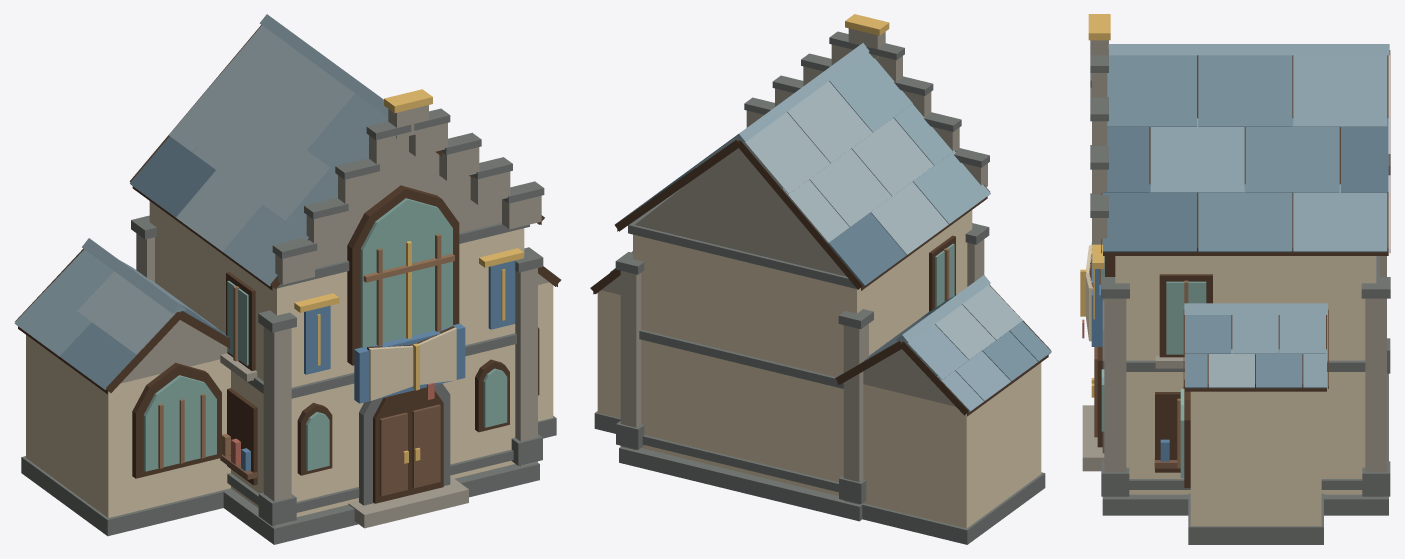
The model's file is ENV_Civic_archive_LOD1.glb.
3 renders of one model, left to right at view 1: azimuth 30°, elevation 25°; view 2: azimuth 150°, elevation 25°; view 3: azimuth 270°, elevation 25°, orthographic. The views are drawn at different scales.
Visible parts, largest first — view 1: ENV_Civic_archive_LOD1_stepped_roof_roofTiles, ENV_Civic_archive_LOD1_reading_hall_plasterIvory, ENV_Civic_archive_LOD1_reading_hall_stone, ENV_Civic_archive_LOD1_stage6_map_room_plasterIvory, ENV_Civic_archive_LOD1_reading_hall_glass, ENV_Civic_archive_LOD1_stage6_map_room_roofTiles, ENV_Civic_archive_LOD1_reading_hall_stoneDark, ENV_Civic_archive_LOD1_reading_hall_woodDark, ENV_Civic_archive_LOD1_stepped_roof_stone, ENV_Civic_archive_LOD1_archive_identity_blue, ENV_Civic_archive_LOD1_stage6_map_room_glass, ENV_Civic_archive_LOD1_stepped_roof_stoneDark (+14 smaller); view 2: ENV_Civic_archive_LOD1_reading_hall_plasterIvory, ENV_Civic_archive_LOD1_stepped_roof_roofTiles, ENV_Civic_archive_LOD1_stage6_map_room_plasterIvory, ENV_Civic_archive_LOD1_reading_hall_stone, ENV_Civic_archive_LOD1_stage6_map_room_roofTiles, ENV_Civic_archive_LOD1_reading_hall_stoneDark, ENV_Civic_archive_LOD1_foundation_stoneDark, ENV_Civic_archive_LOD1_stepped_roof_stoneDark, ENV_Civic_archive_LOD1_stage6_map_room_stoneDark, ENV_Civic_archive_LOD1_stepped_roof_woodDark, ENV_Civic_archive_LOD1_stage5_scriptorium_plasterIvory, ENV_Civic_archive_LOD1_stepped_roof_stone (+5 smaller); view 3: ENV_Civic_archive_LOD1_stepped_roof_roofTiles, ENV_Civic_archive_LOD1_reading_hall_plasterIvory, ENV_Civic_archive_LOD1_stage5_scriptorium_plasterIvory, ENV_Civic_archive_LOD1_stage5_scriptorium_roofTiles, ENV_Civic_archive_LOD1_reading_hall_stone, ENV_Civic_archive_LOD1_reading_hall_stoneDark, ENV_Civic_archive_LOD1_foundation_stoneDark, ENV_Civic_archive_LOD1_stage5_scriptorium_stoneDark, ENV_Civic_archive_LOD1_stepped_roof_woodDark, ENV_Civic_archive_LOD1_reading_hall_glass, ENV_Civic_archive_LOD1_reading_hall_woodDark, ENV_Civic_archive_LOD1_stepped_roof_stone (+8 smaller).
Part boxes in pixels (x1=…): ENV_Civic_archive_LOD1_stepped_roof_roofTiles: x1=130, y1=14, x2=544, y2=286; ENV_Civic_archive_LOD1_reading_hall_plasterIvory: x1=149, y1=201, x2=524, y2=516; ENV_Civic_archive_LOD1_reading_hall_stone: x1=136, y1=152, x2=537, y2=528; ENV_Civic_archive_LOD1_stage6_map_room_plasterIvory: x1=26, y1=335, x2=230, y2=517; ENV_Civic_archive_LOD1_reading_hall_glass: x1=227, y1=198, x2=507, y2=470; ENV_Civic_archive_LOD1_stage6_map_room_roofTiles: x1=14, y1=238, x2=228, y2=389; ENV_Civic_archive_LOD1_reading_hall_stoneDark: x1=131, y1=176, x2=543, y2=525; ENV_Civic_archive_LOD1_reading_hall_woodDark: x1=226, y1=185, x2=509, y2=503; ENV_Civic_archive_LOD1_stepped_roof_stone: x1=275, y1=105, x2=541, y2=284; ENV_Civic_archive_LOD1_archive_identity_blue: x1=241, y1=260, x2=515, y2=471; ENV_Civic_archive_LOD1_stage6_map_room_glass: x1=143, y1=375, x2=216, y2=471; ENV_Civic_archive_LOD1_stepped_roof_stoneDark: x1=272, y1=108, x2=544, y2=258; ENV_Civic_archive_LOD1_reading_hall_plasterIvory: x1=633, y1=210, x2=972, y2=496; ENV_Civic_archive_LOD1_stepped_roof_roofTiles: x1=614, y1=43, x2=990, y2=286; ENV_Civic_archive_LOD1_stage6_map_room_plasterIvory: x1=863, y1=363, x2=1041, y2=528; ENV_Civic_archive_LOD1_reading_hall_stone: x1=620, y1=148, x2=984, y2=504; ENV_Civic_archive_LOD1_stage6_map_room_roofTiles: x1=834, y1=275, x2=1051, y2=412; ENV_Civic_archive_LOD1_reading_hall_stoneDark: x1=615, y1=186, x2=989, y2=504; ENV_Civic_archive_LOD1_foundation_stoneDark: x1=619, y1=446, x2=862, y2=521; ENV_Civic_archive_LOD1_stepped_roof_stoneDark: x1=744, y1=31, x2=989, y2=167; ENV_Civic_archive_LOD1_stage6_map_room_stoneDark: x1=861, y1=472, x2=1045, y2=544; ENV_Civic_archive_LOD1_stepped_roof_woodDark: x1=615, y1=140, x2=989, y2=290; ENV_Civic_archive_LOD1_stage5_scriptorium_plasterIvory: x1=597, y1=290, x2=620, y2=418; ENV_Civic_archive_LOD1_stepped_roof_stone: x1=746, y1=28, x2=987, y2=186; ENV_Civic_archive_LOD1_stepped_roof_roofTiles: x1=1103, y1=44, x2=1389, y2=252; ENV_Civic_archive_LOD1_reading_hall_plasterIvory: x1=1115, y1=256, x2=1376, y2=494; ENV_Civic_archive_LOD1_stage5_scriptorium_plasterIvory: x1=1190, y1=391, x2=1321, y2=526; ENV_Civic_archive_LOD1_stage5_scriptorium_roofTiles: x1=1184, y1=303, x2=1327, y2=388; ENV_Civic_archive_LOD1_reading_hall_stone: x1=1082, y1=256, x2=1386, y2=497; ENV_Civic_archive_LOD1_reading_hall_stoneDark: x1=1101, y1=154, x2=1390, y2=496; ENV_Civic_archive_LOD1_foundation_stoneDark: x1=1102, y1=373, x2=1388, y2=515; ENV_Civic_archive_LOD1_stage5_scriptorium_stoneDark: x1=1188, y1=493, x2=1323, y2=544; ENV_Civic_archive_LOD1_stepped_roof_woodDark: x1=1101, y1=50, x2=1390, y2=255; ENV_Civic_archive_LOD1_reading_hall_glass: x1=1101, y1=256, x2=1206, y2=431; ENV_Civic_archive_LOD1_reading_hall_woodDark: x1=1097, y1=256, x2=1212, y2=447; ENV_Civic_archive_LOD1_stepped_roof_stone: x1=1090, y1=40, x2=1108, y2=244.
Size of the model in its own units: 8.75 by 7.74 by 5.12.
